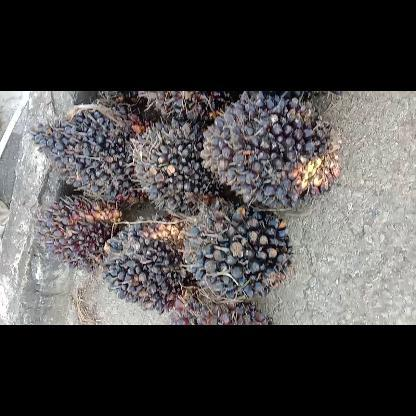TBS mentah: (199, 91, 345, 211), (26, 104, 158, 208), (180, 200, 296, 306), (129, 116, 229, 218), (98, 213, 198, 315), (30, 190, 126, 270)
